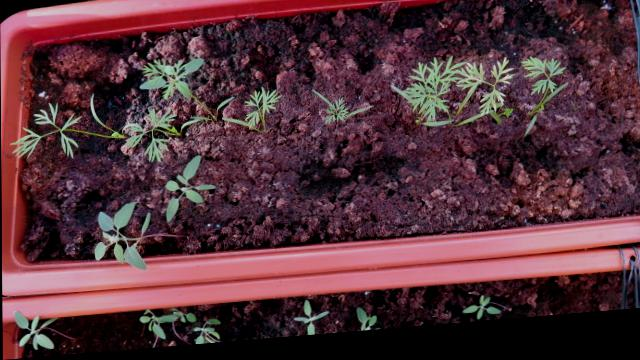weed: (159, 153, 219, 226), (454, 297, 504, 329)
